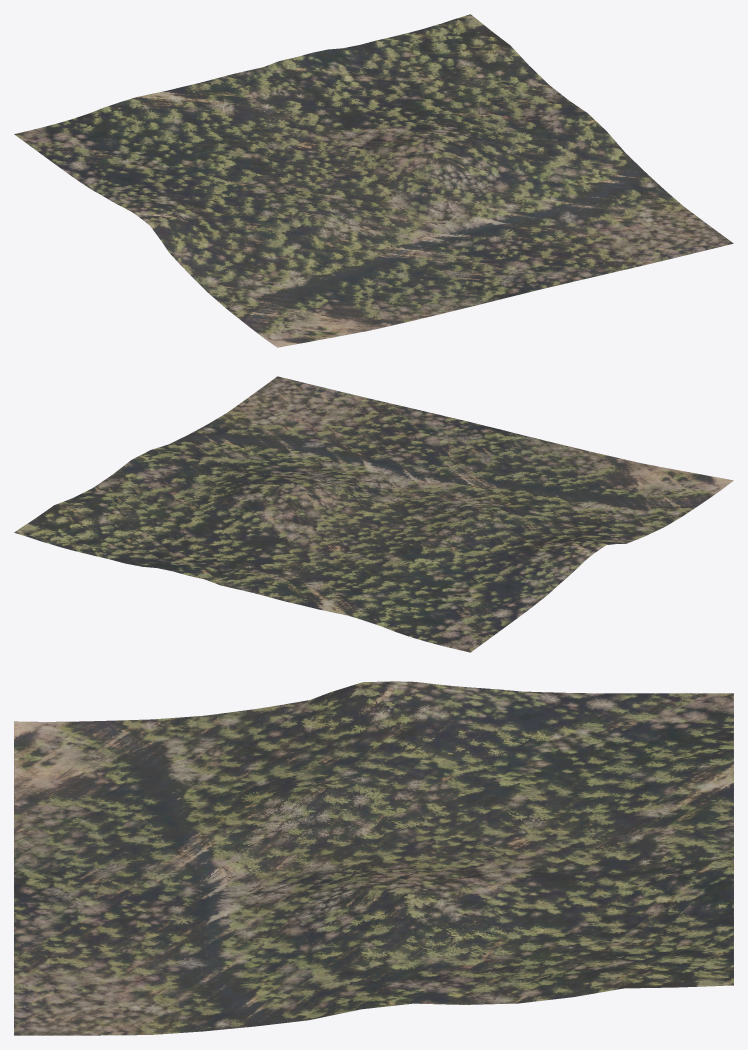
Rendered from CM_Terrain_24490868_6822251.fbx.
The picture shows the model from 3 angles, top to bottom: view 1: azimuth 30°, elevation 25°; view 2: azimuth 150°, elevation 25°; view 3: azimuth 270°, elevation 25°; orthographic projection. The views are drawn at different scales.
Parts seen in each view (by area): view 1: CM_Terrain_24490868_6822251_LOD0; view 2: CM_Terrain_24490868_6822251_LOD0; view 3: CM_Terrain_24490868_6822251_LOD0.
Boxes of the visible parts, x1,y1,x2,y2 form: CM_Terrain_24490868_6822251_LOD0: [14, 14, 733, 347]; CM_Terrain_24490868_6822251_LOD0: [14, 376, 733, 652]; CM_Terrain_24490868_6822251_LOD0: [14, 681, 733, 1035].
Size of what is drawn, in the model's own units: 205 by 15.91 by 205.
